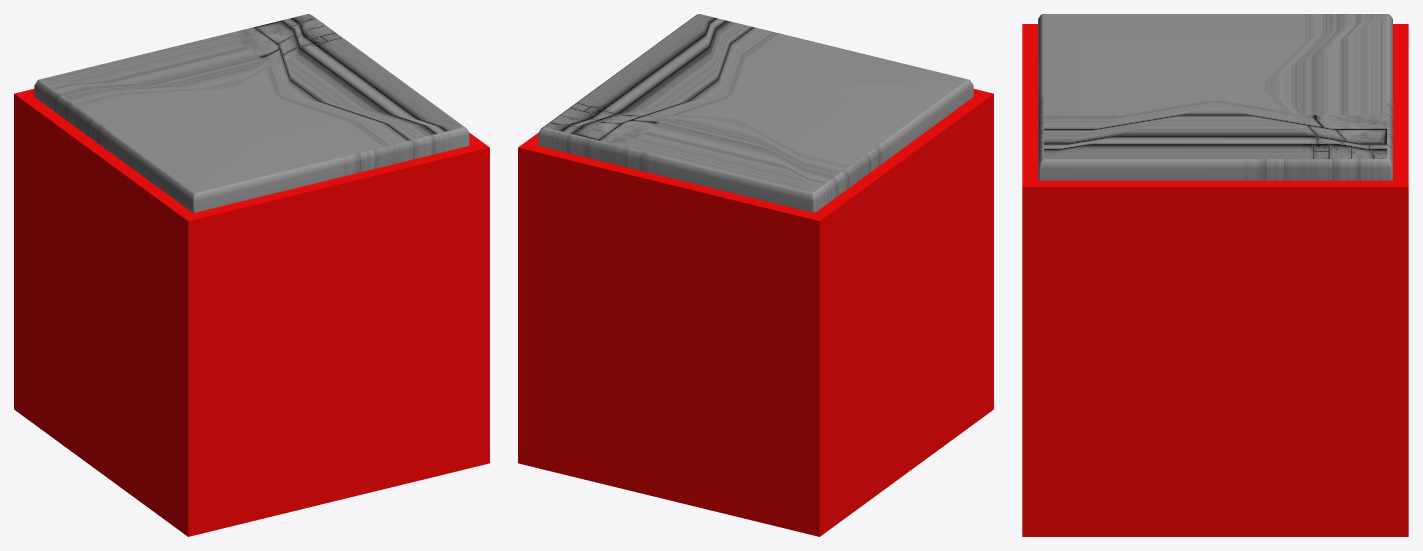
File: square_outmost_territories_low.fbx
3 views of the same model, side by side, from view 1: azimuth 30°, elevation 25°; view 2: azimuth 150°, elevation 25°; view 3: azimuth 270°, elevation 25° (orthographic). The views are drawn at different scales.
Parts seen in each view (by area): view 1: pCube15, pCube16; view 2: pCube15, pCube16; view 3: pCube15, pCube16.
Boxes of the visible parts, x1,y1,x2,y2 form: pCube15: (14,89,489,536); pCube16: (34,14,469,212); pCube15: (518,89,993,536); pCube16: (538,14,973,212); pCube15: (1022,24,1408,536); pCube16: (1038,14,1392,180).
Size of the model in its own units: 100 by 105 by 100.
